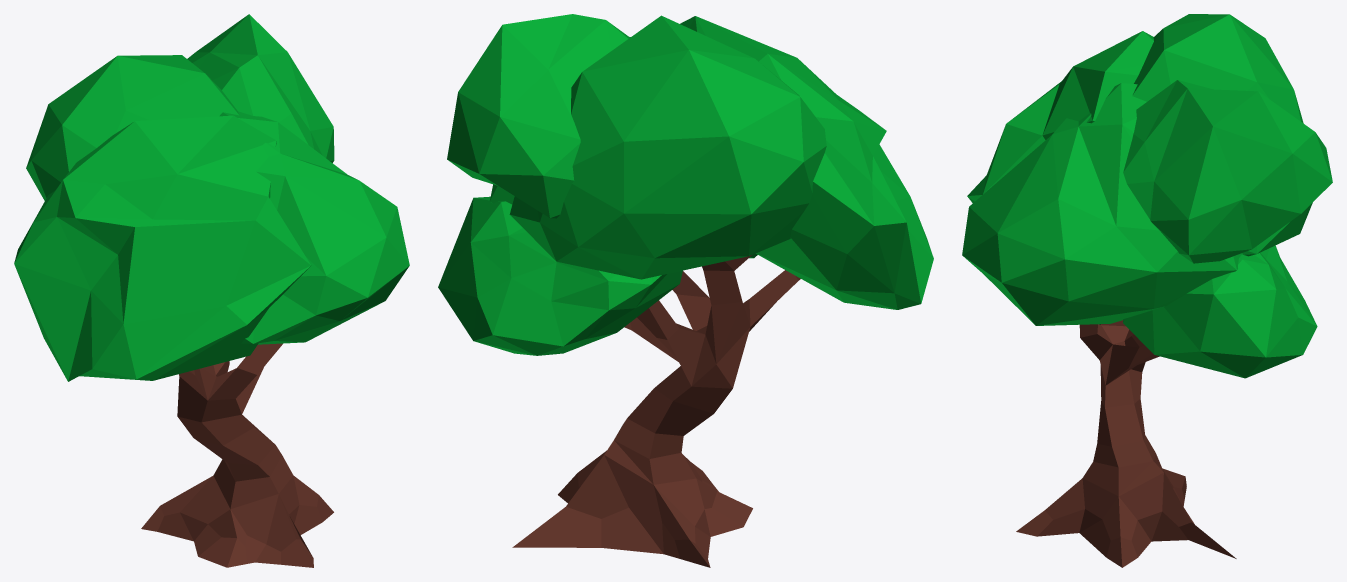
The model's file is TreeA_02.fbx.
The picture shows the model from 3 angles, left to right: view 1: azimuth 30°, elevation 25°; view 2: azimuth 150°, elevation 25°; view 3: azimuth 270°, elevation 25°; orthographic projection. The views are drawn at different scales.
Parts seen in each view (by area): view 1: TreeA_02; view 2: TreeA_02; view 3: TreeA_02.
Boxes of the visible parts, x1,y1,x2,y2 form: TreeA_02: (14, 14, 409, 567); TreeA_02: (438, 14, 933, 567); TreeA_02: (962, 14, 1332, 567).
Size of the model in its own units: 8.48 by 10.78 by 7.69.
